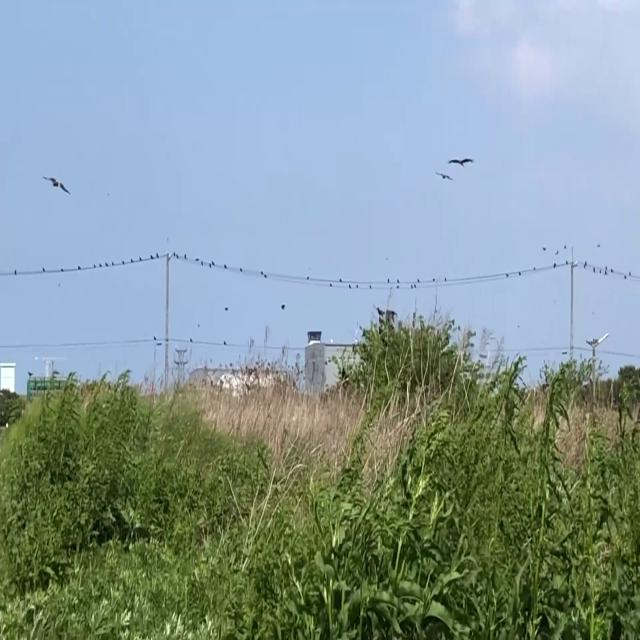bird: (44, 168, 69, 202), (444, 151, 473, 175), (437, 166, 452, 187), (280, 297, 286, 310), (262, 266, 267, 280)
